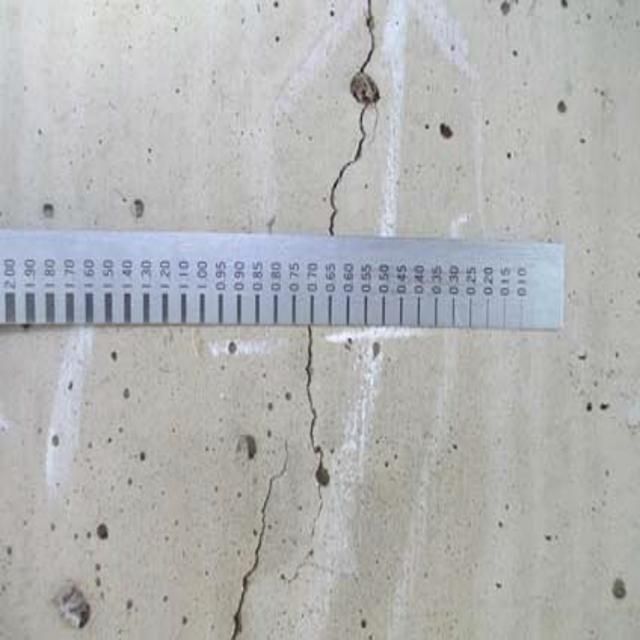crack: (207, 321, 347, 640), (317, 0, 407, 233)
